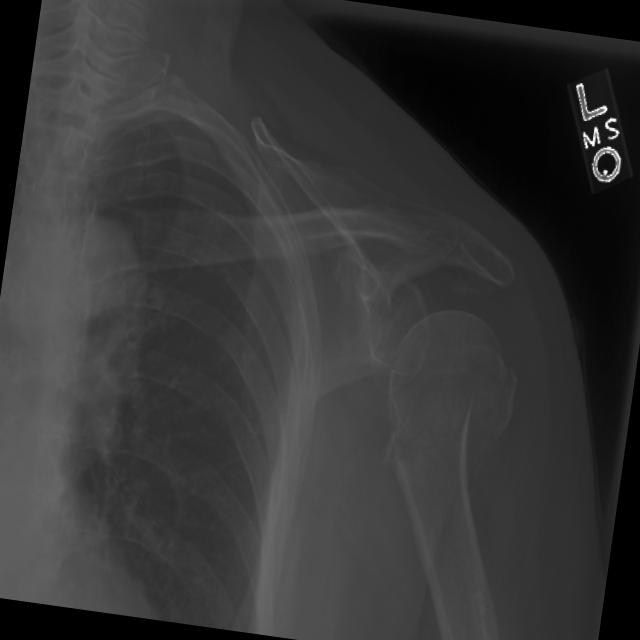shoulder fracture: (441, 359, 529, 493), (363, 398, 428, 496)
